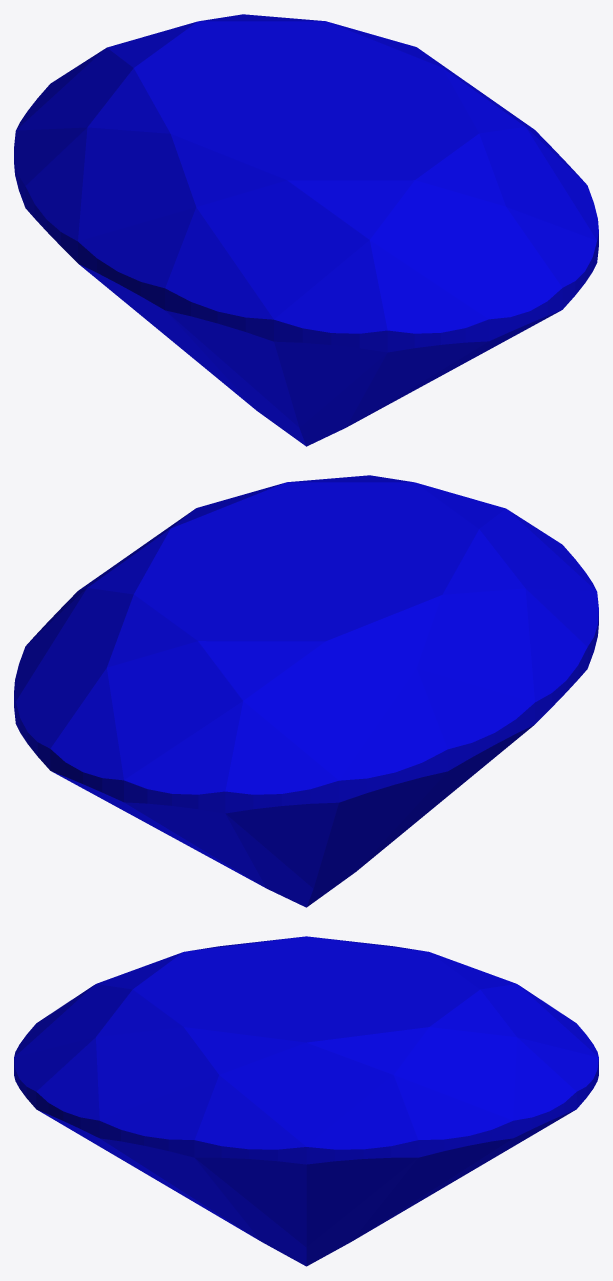
The model's file is Head_Single Halo_Oval_1.5ct_Diamond.glb.
The picture shows the model from 3 angles, top to bottom: view 1: azimuth 30°, elevation 25°; view 2: azimuth 150°, elevation 25°; view 3: azimuth 270°, elevation 25°; orthographic projection. The views are drawn at different scales.
Bounding box in the file's own units: 0.0065 × 0.0047 × 0.00899.
